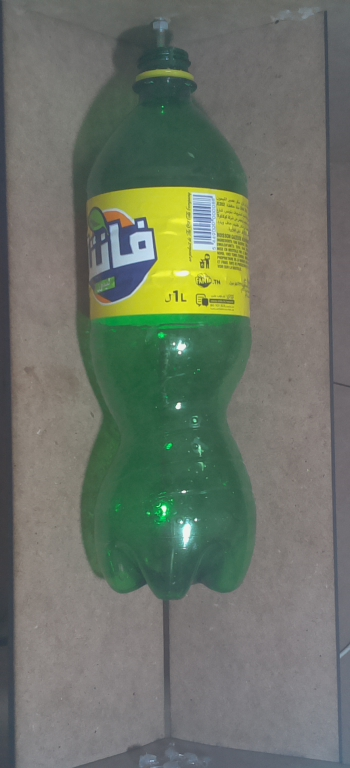Bouteille_1L: (72, 35, 273, 614)
